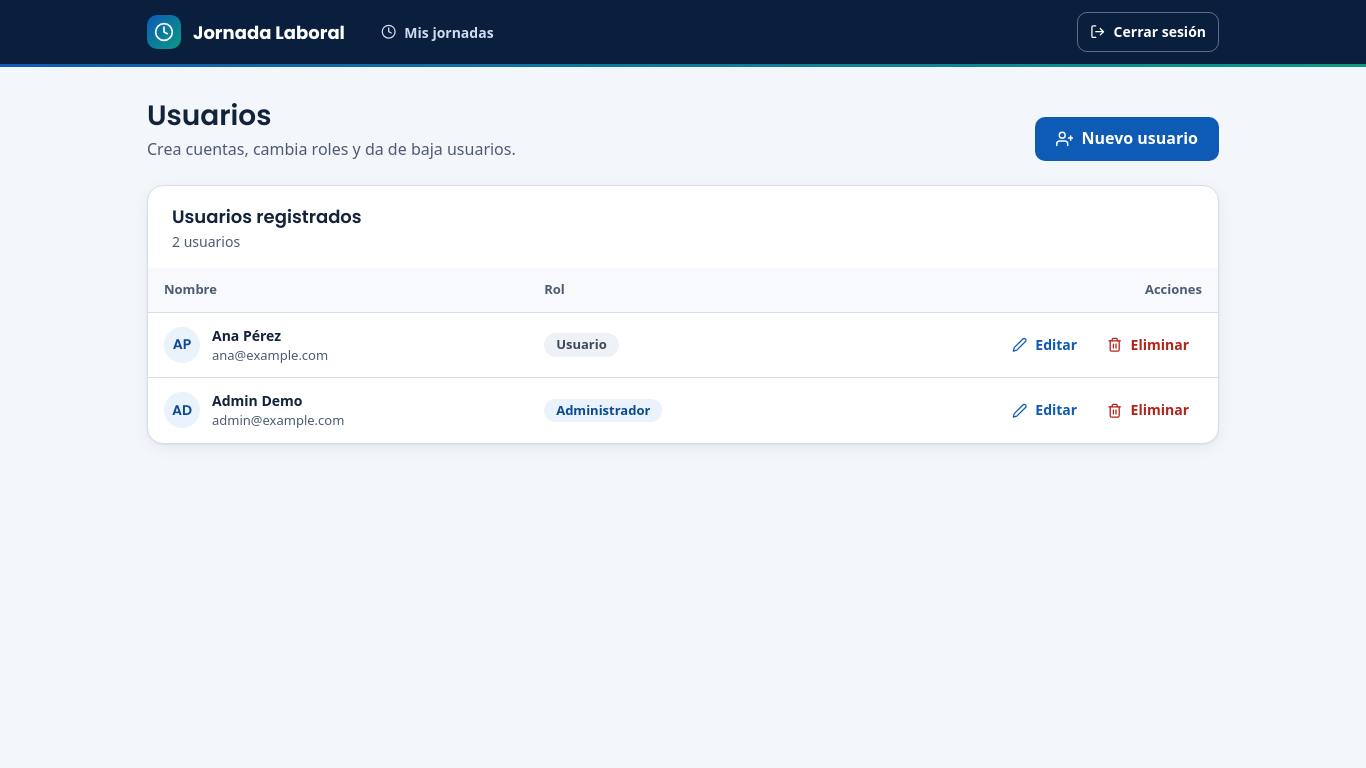
Scenario: shows roles in Spanish while keeping the internal values
The width and height of the screenshot is (1366, 768).
expect the text "Usuario" is shown: met, box [544, 333, 619, 357]
expect the text "Administrador" is shown: met, box [544, 399, 662, 422]
Click the button with aria-label "Editar a Admin Demo". click: (1045, 410)
box: [999, 392, 1090, 428]
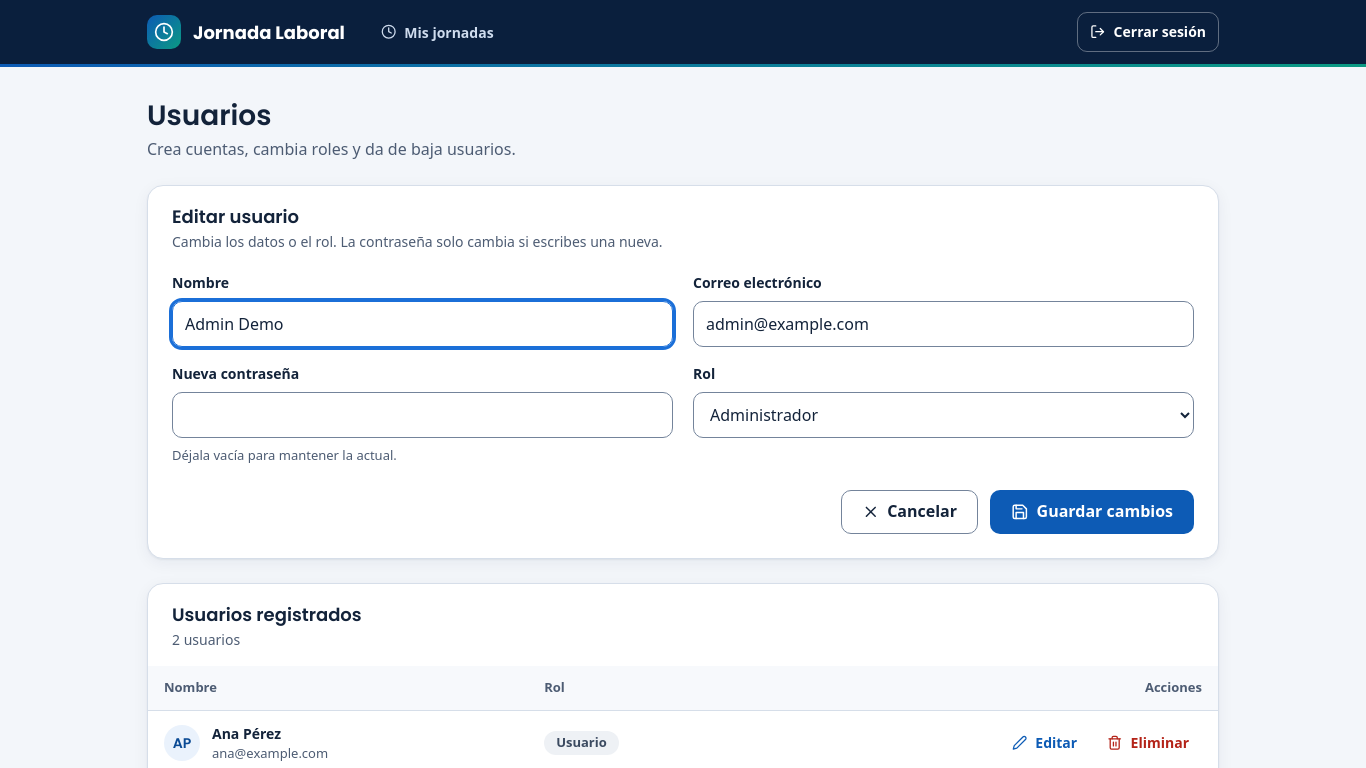
expect the dropdown labelled "Rol" shows "Administrador": met, box [693, 392, 1194, 438]
